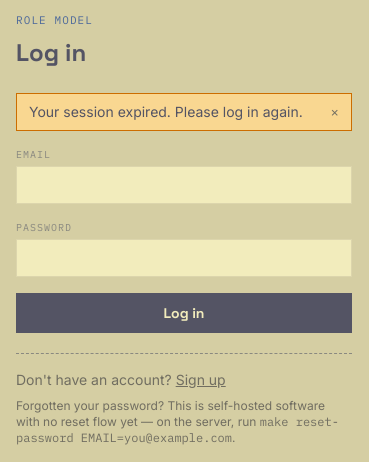
Login › renders the expiry banner on ?reason=expired and hides it on dismiss
Expected: the text "Your session expired. Please log in again." is shown, [29,102,303,122]
Click the button named "Dismiss" at (335, 112), box [331,102,339,122]
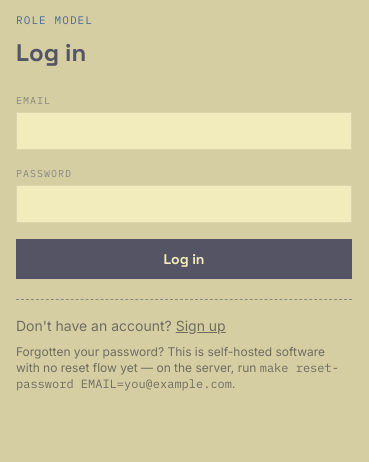
Result: the text "Your session expired. Please log in again." is gone
